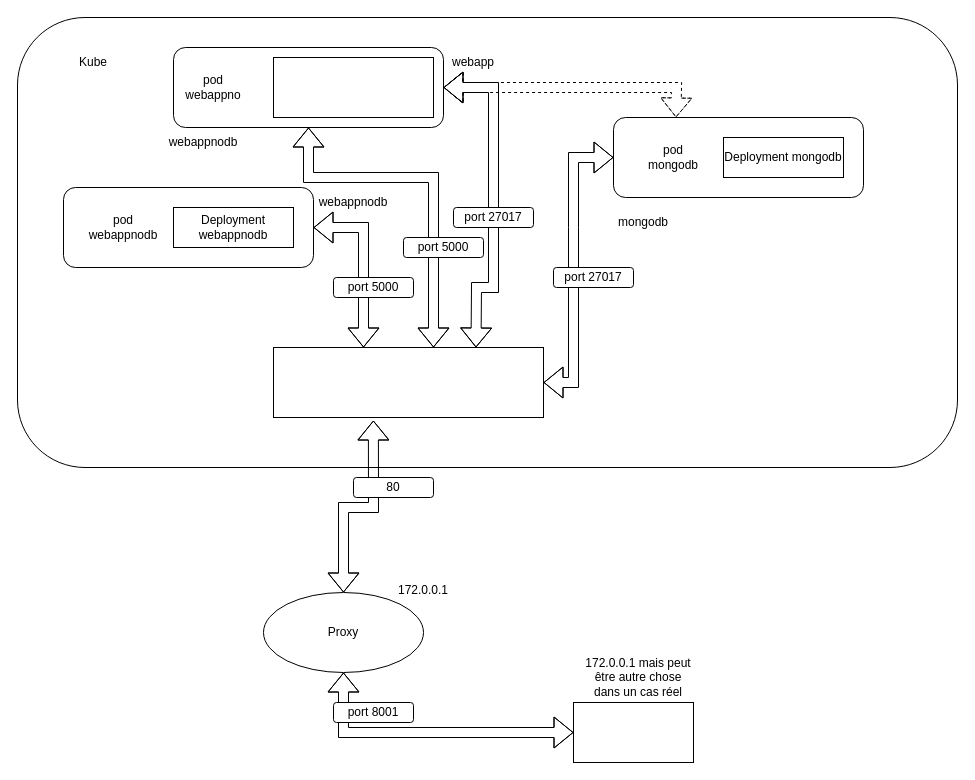
The diagram is 975 pixels wide and 780 high, and some of its shapes have lost their labels. Each missing label, with the centre of its shape:
"client" belongs at point 633,732.
"ClusterIP controller" belongs at point 408,382.
"Deployment webapp" belongs at point 353,87.
